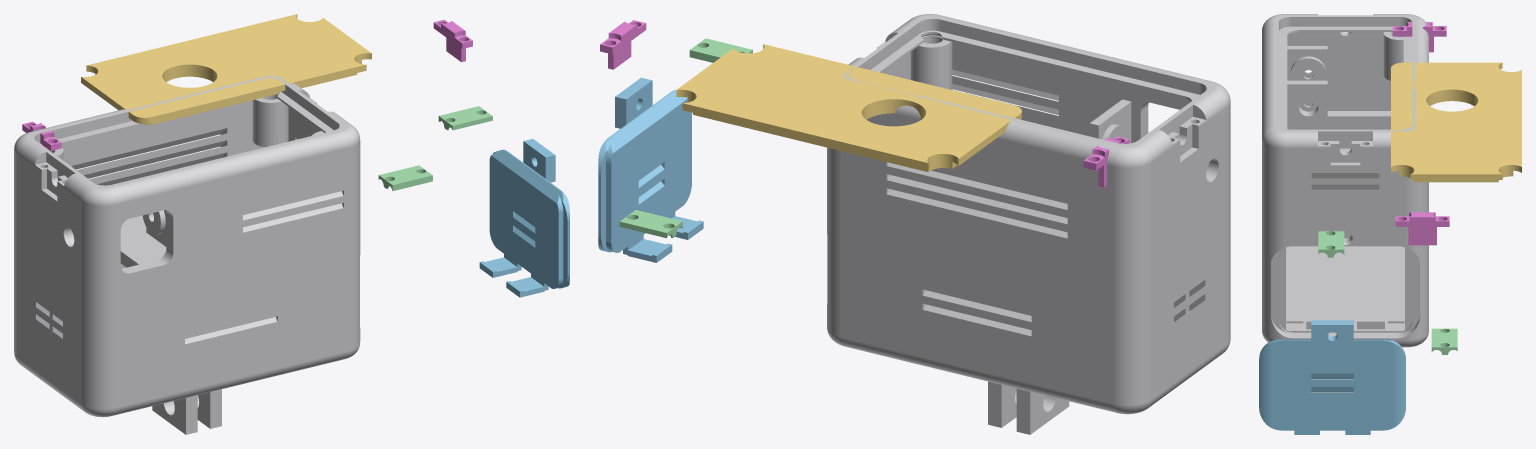
The model's file is sender850_exploded.glb.
3 views of the same model, side by side, from view 1: azimuth 30°, elevation 25°; view 2: azimuth 150°, elevation 25°; view 3: azimuth 270°, elevation 25° (orthographic). The views are drawn at different scales.
Visible parts, largest first — view 1: =>[0:1:1:3], =>[0:1:1:5], =>[0:1:1:4], =>[0:1:1:7], =>[0:1:1:11], =>[0:1:1:9]; view 2: =>[0:1:1:3], =>[0:1:1:5], =>[0:1:1:4], =>[0:1:1:11], =>[0:1:1:7], =>[0:1:1:9], =>[0:1:1:10]; view 3: =>[0:1:1:3], =>[0:1:1:5], =>[0:1:1:4], =>[0:1:1:11], =>[0:1:1:7], =>[0:1:1:9], =>[0:1:1:10].
Boxes of the visible parts, bbox=[...] form: =>[0:1:1:3]: bbox=[14, 75, 360, 434]; =>[0:1:1:5]: bbox=[81, 14, 371, 124]; =>[0:1:1:4]: bbox=[479, 139, 569, 297]; =>[0:1:1:7]: bbox=[378, 165, 432, 190]; =>[0:1:1:11]: bbox=[433, 19, 472, 62]; =>[0:1:1:9]: bbox=[438, 106, 492, 130]; =>[0:1:1:3]: bbox=[827, 14, 1230, 434]; =>[0:1:1:5]: bbox=[676, 44, 1021, 172]; =>[0:1:1:4]: bbox=[598, 77, 703, 262]; =>[0:1:1:11]: bbox=[600, 20, 646, 69]; =>[0:1:1:7]: bbox=[619, 210, 682, 238]; =>[0:1:1:9]: bbox=[689, 38, 752, 62]; =>[0:1:1:10]: bbox=[1083, 136, 1129, 187]; =>[0:1:1:3]: bbox=[1262, 14, 1428, 347]; =>[0:1:1:5]: bbox=[1391, 62, 1521, 182]; =>[0:1:1:4]: bbox=[1259, 320, 1405, 434]; =>[0:1:1:11]: bbox=[1395, 212, 1449, 245]; =>[0:1:1:7]: bbox=[1431, 328, 1457, 354]; =>[0:1:1:9]: bbox=[1318, 231, 1344, 257]; =>[0:1:1:10]: bbox=[1392, 22, 1446, 52].
Size of the model in its own units: 0.1258 by 0.0705 by 0.0621.
